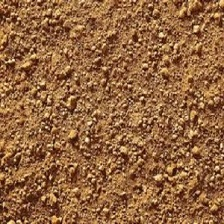clay_soil: (12, 21, 213, 209)
